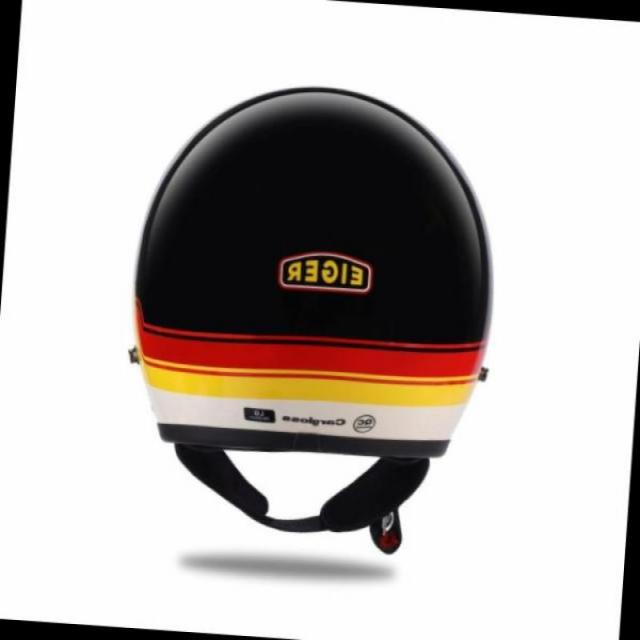Helmet: (130, 83, 465, 549)
